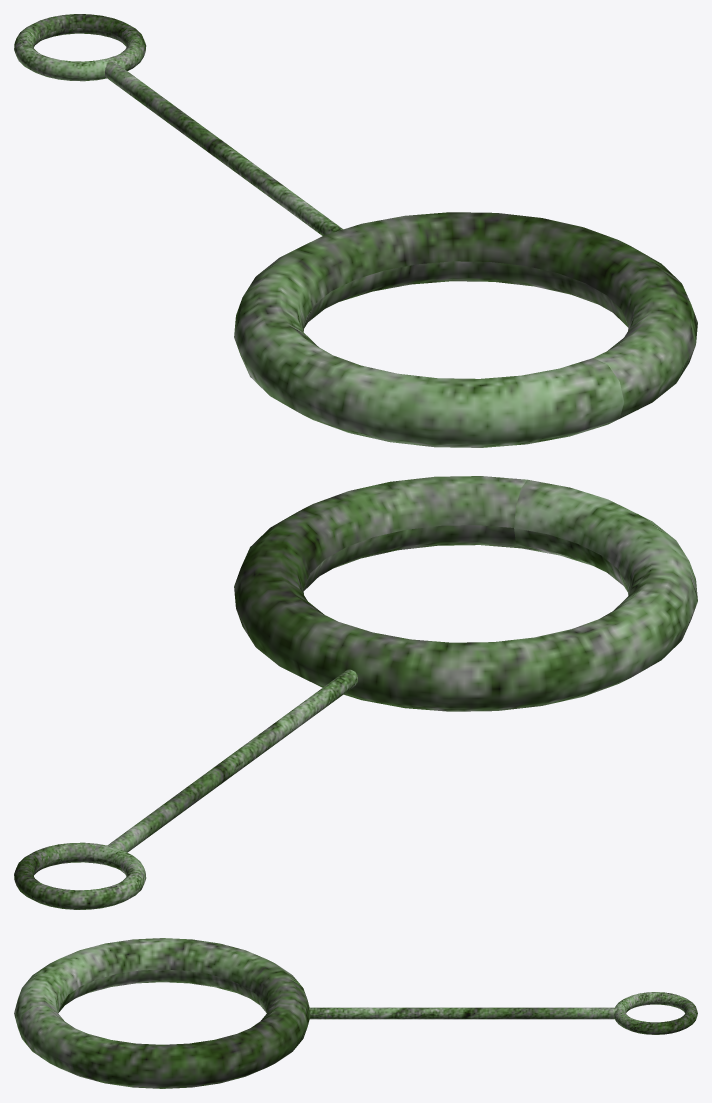
File: wand_bubble_wand.fbx
3 renders of one model, top to bottom at view 1: azimuth 30°, elevation 25°; view 2: azimuth 150°, elevation 25°; view 3: azimuth 270°, elevation 25°, orthographic. The views are drawn at different scales.
Visible parts, largest first — view 1: wand_bubble_wand; view 2: wand_bubble_wand; view 3: wand_bubble_wand.
Boxes of the visible parts, x1,y1,x2,y2 form: wand_bubble_wand: [14, 14, 697, 447]; wand_bubble_wand: [14, 476, 697, 909]; wand_bubble_wand: [14, 938, 697, 1088].
Bounding box in the file's own units: 58.8 × 8.37 × 135.
Materials: 1 (1 with a texture image).
